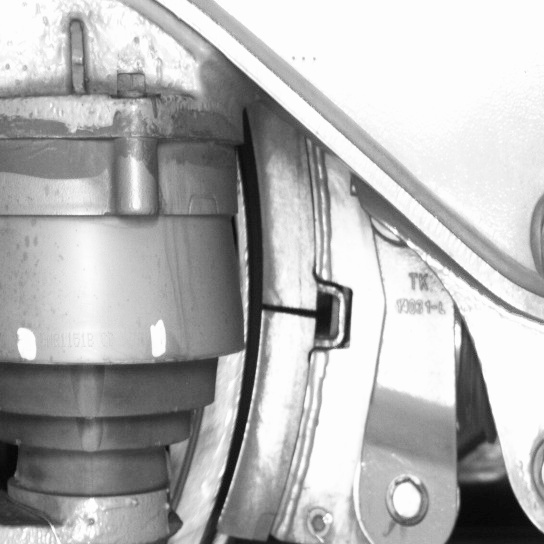KnifeSwitch: (192, 140, 333, 541)
